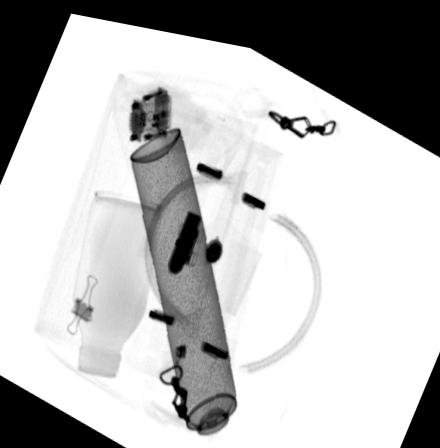Sprayer: (126, 119, 245, 448)
